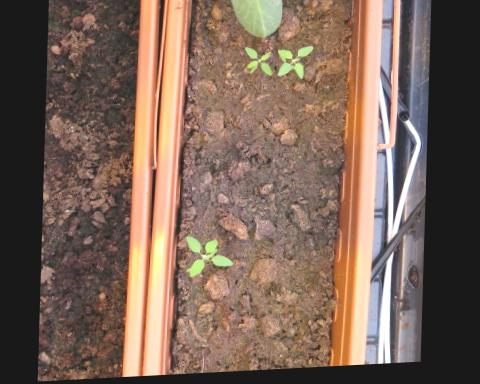weed: (185, 230, 239, 281), (277, 45, 316, 84), (242, 46, 275, 82)
